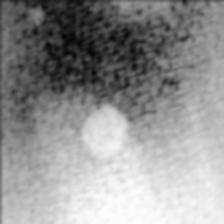Potentially Malignant Skin Tumors: (73, 94, 141, 177)
